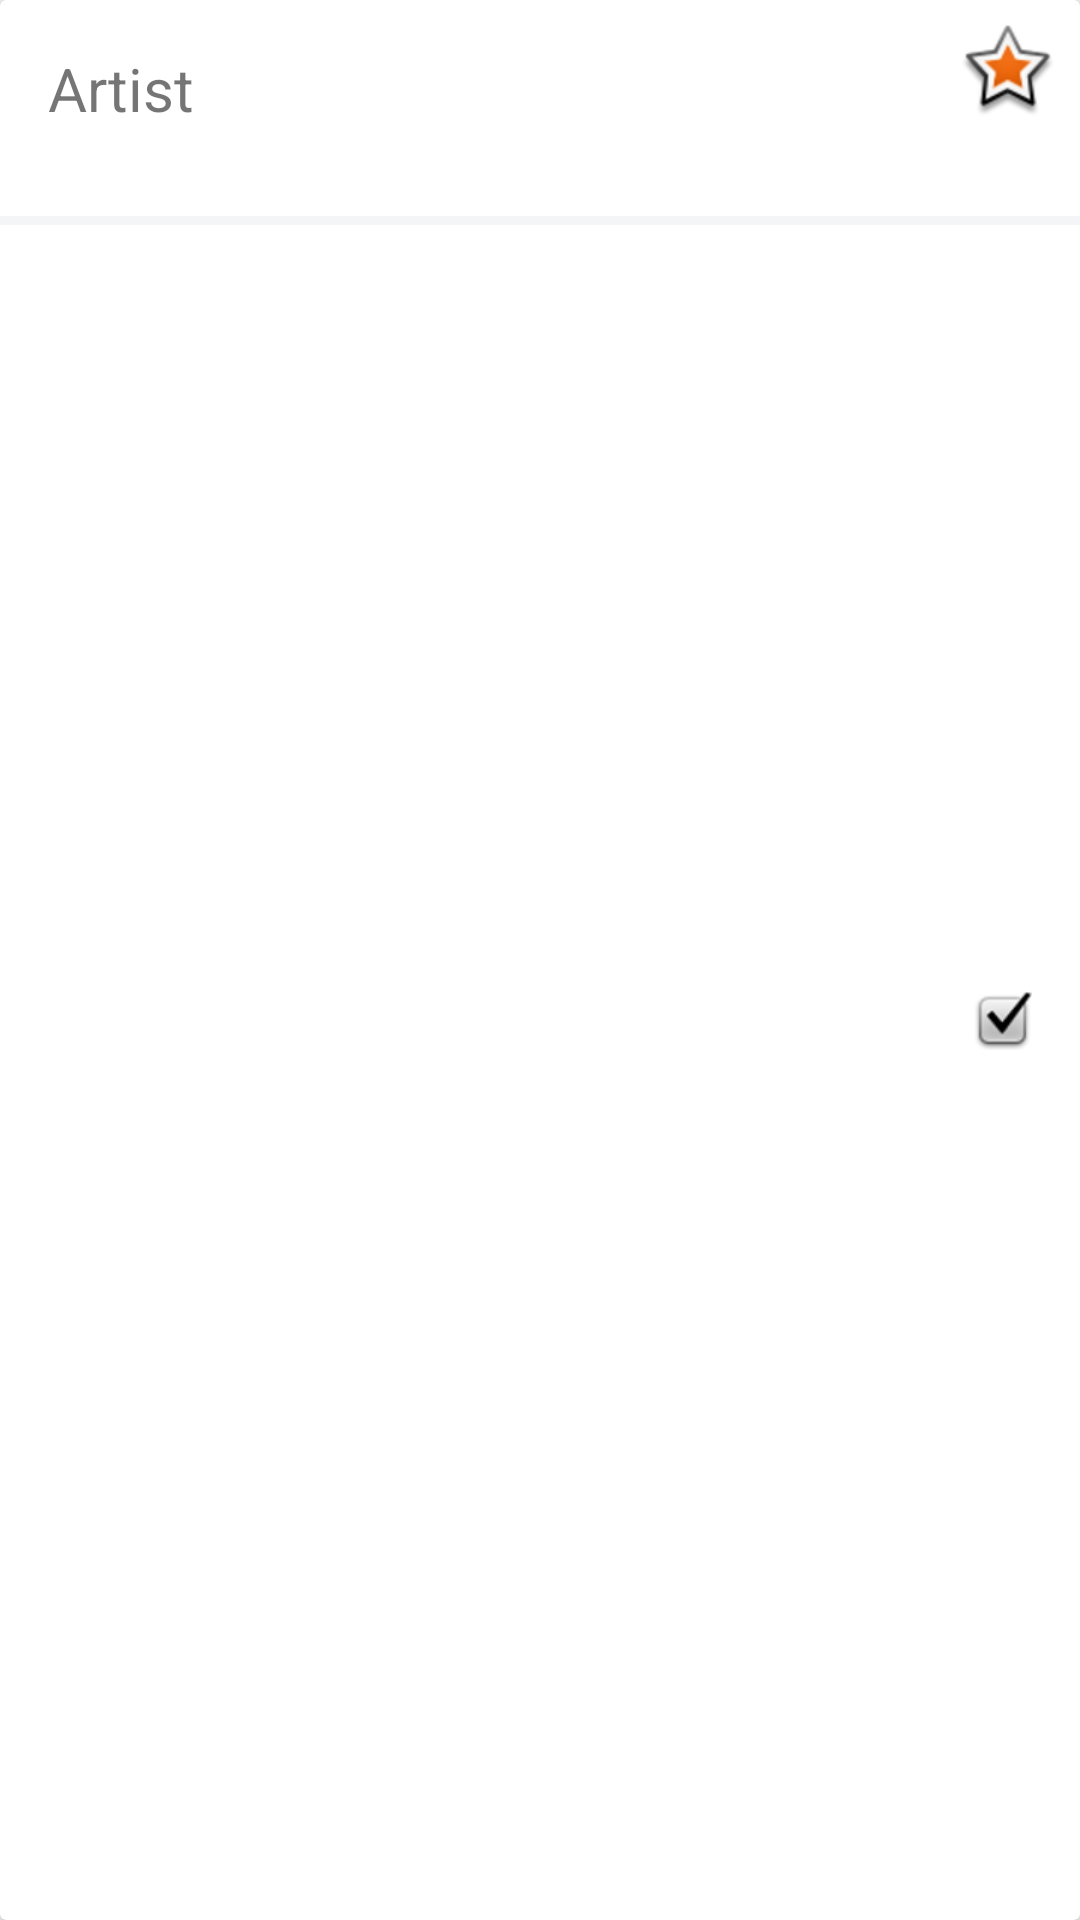

Named icons in this screenshot (1080 × 1920) and their bounding boxes, (x1,y1,x2,y2):
star on: (965,25,1051,112)
